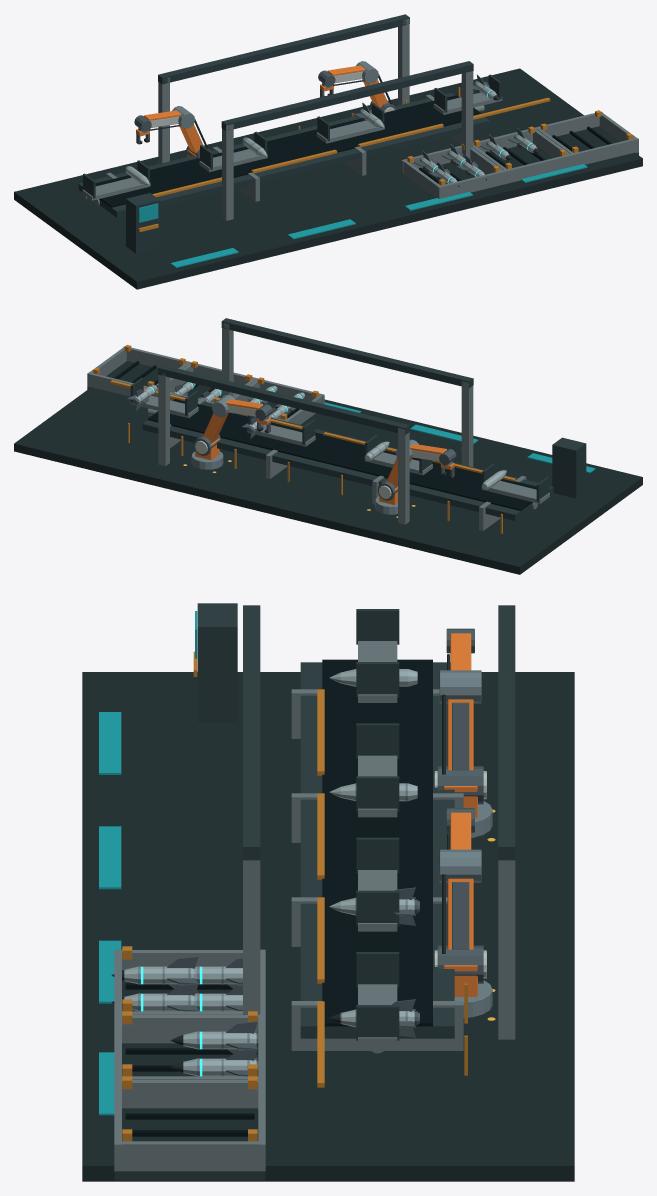
File: missile_factory_d0_lod0.meshopt.glb
3 views of the same model, one above another, from view 1: azimuth 30°, elevation 25°; view 2: azimuth 150°, elevation 25°; view 3: azimuth 270°, elevation 25° (orthographic). The views are drawn at different scales.
Parts seen in each view (by area): view 1: FACTORY_STRUCTURE, STORAGE_CASE_03_FRAME, STORAGE_CASE_01_FRAME, STORAGE_CASE_02_FRAME; view 2: FACTORY_STRUCTURE, STORAGE_CASE_03_FRAME, STORAGE_CASE_01_FRAME, STORAGE_CASE_02_FRAME, FACTORY_ARM_60_Azimuth_bearing032_60, FACTORY_ARM_56_Upper_articulated_link024_56; view 3: FACTORY_STRUCTURE, STORAGE_CASE_03_FRAME, STORAGE_CASE_02_FRAME, STORAGE_CASE_01_FRAME, FACTORY_ARM_49_Elbow_drive024_49, FACTORY_ARM_18_Elbow_drive024_18, FACTORY_ARM_26_Upper_link_inset024_26, FACTORY_ARM_57_Upper_link_inset024_57, FACTORY_ARM_53_Shoulder_joint024_53, FACTORY_ARM_22_Shoulder_joint024_22, CASE_02_MISSILE_01_Tapered_missile_shell_14, CASE_01_MISSILE_03_Tapered_missile_shell_14 (+4 smaller).
Part boxes in pixels (x1=…): FACTORY_STRUCTURE: x1=14, y1=14, x2=642, y2=289; STORAGE_CASE_03_FRAME: x1=535, y1=110, x2=638, y2=166; STORAGE_CASE_01_FRAME: x1=401, y1=143, x2=505, y2=198; STORAGE_CASE_02_FRAME: x1=473, y1=126, x2=572, y2=183; FACTORY_STRUCTURE: x1=14, y1=318, x2=642, y2=574; STORAGE_CASE_03_FRAME: x1=87, y1=345, x2=191, y2=396; STORAGE_CASE_01_FRAME: x1=233, y1=377, x2=324, y2=424; STORAGE_CASE_02_FRAME: x1=153, y1=361, x2=257, y2=403; FACTORY_ARM_60_Azimuth_bearing032_60: x1=191, y1=451, x2=223, y2=469; FACTORY_ARM_56_Upper_articulated_link024_56: x1=203, y1=413, x2=228, y2=442; FACTORY_STRUCTURE: x1=82, y1=603, x2=574, y2=1181; STORAGE_CASE_03_FRAME: x1=114, y1=1076, x2=265, y2=1180; STORAGE_CASE_02_FRAME: x1=114, y1=1011, x2=265, y2=1079; STORAGE_CASE_01_FRAME: x1=114, y1=946, x2=265, y2=1014; FACTORY_ARM_49_Elbow_drive024_49: x1=439, y1=849, x2=481, y2=882; FACTORY_ARM_18_Elbow_drive024_18: x1=439, y1=670, x2=481, y2=703; FACTORY_ARM_26_Upper_link_inset024_26: x1=452, y1=702, x2=469, y2=770; FACTORY_ARM_57_Upper_link_inset024_57: x1=452, y1=882, x2=469, y2=949; FACTORY_ARM_53_Shoulder_joint024_53: x1=437, y1=945, x2=483, y2=983; FACTORY_ARM_22_Shoulder_joint024_22: x1=437, y1=766, x2=483, y2=804; CASE_02_MISSILE_01_Tapered_missile_shell_14: x1=183, y1=1031, x2=256, y2=1049; CASE_01_MISSILE_03_Tapered_missile_shell_14: x1=124, y1=966, x2=193, y2=984.
Bounding box in the file's own units: 19.15 × 3.74 × 8.
